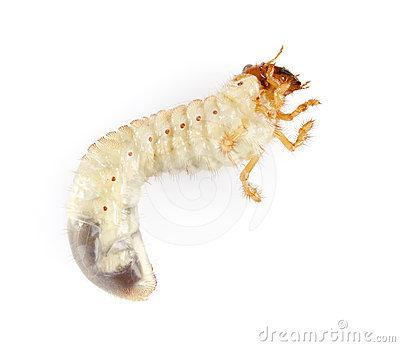grub: (68, 44, 322, 309)
